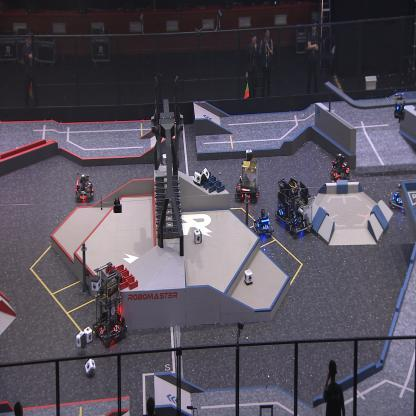car: (94, 261, 128, 346), (286, 181, 314, 238), (274, 174, 302, 224), (235, 156, 259, 204), (390, 181, 411, 214), (329, 151, 351, 182), (253, 208, 274, 240), (74, 173, 94, 202)
